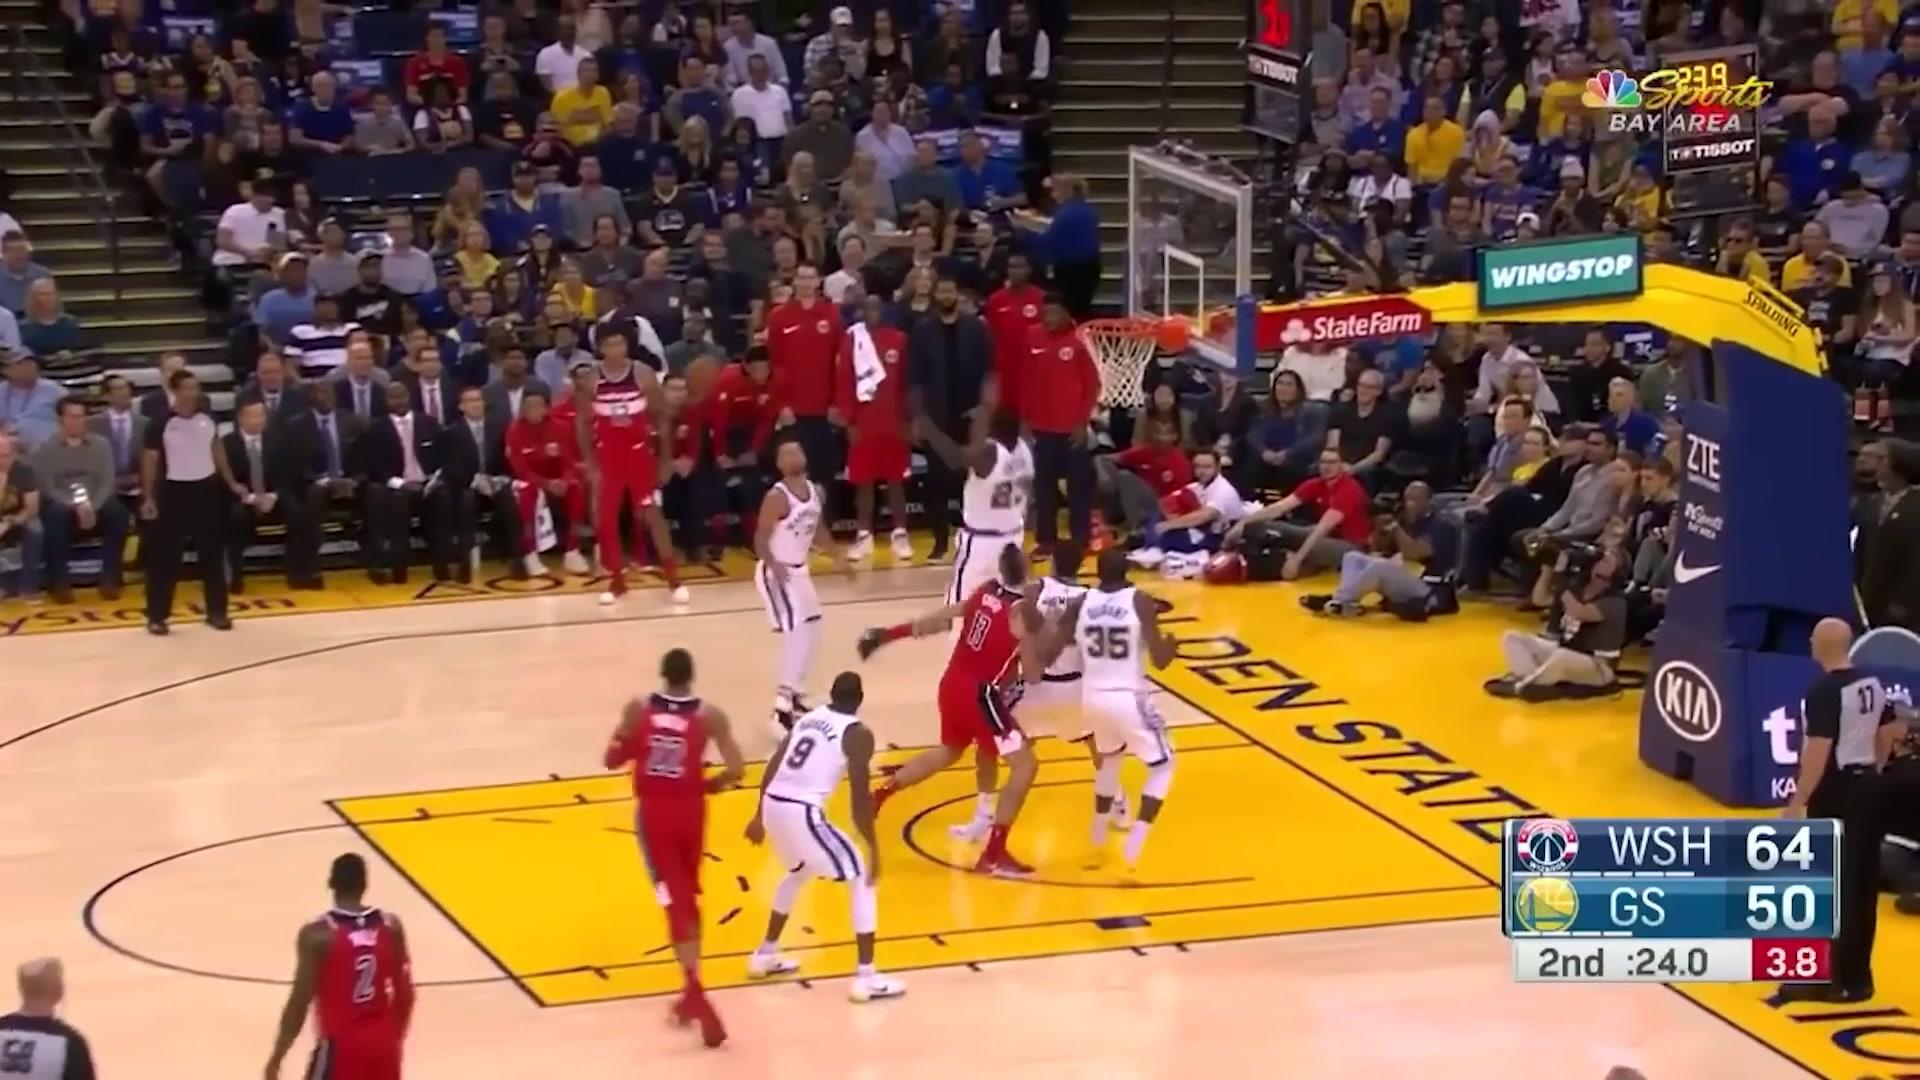foul: (938, 394, 1116, 775)
